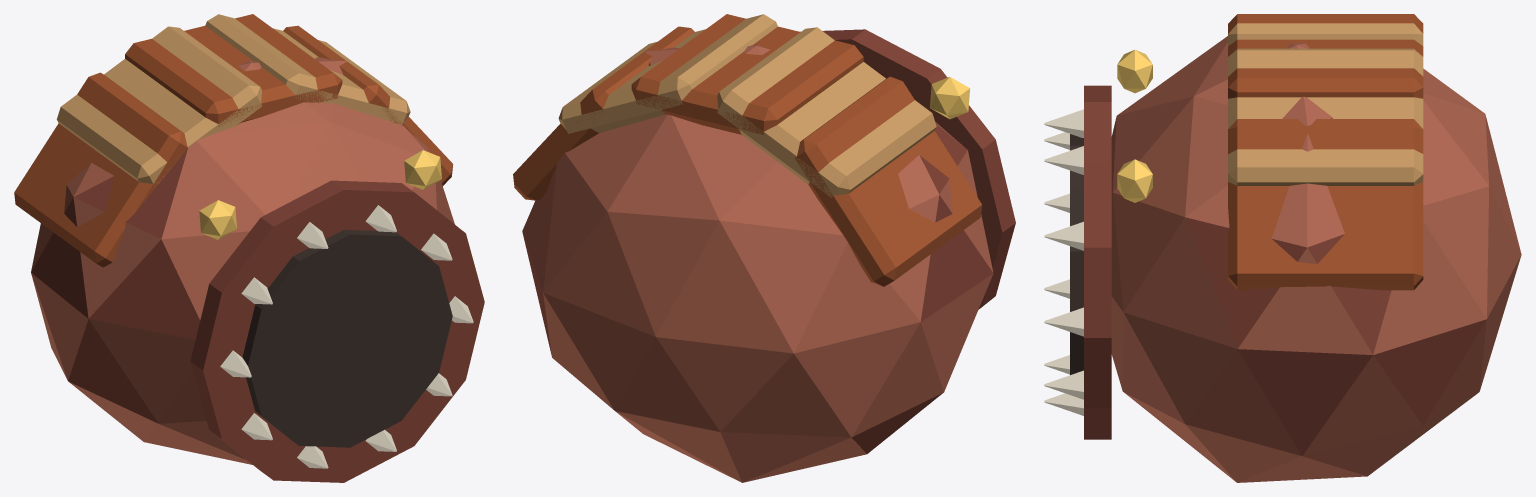
The model's file is WormHead.fbx.
3 renders of one model, left to right at view 1: azimuth 30°, elevation 25°; view 2: azimuth 150°, elevation 25°; view 3: azimuth 270°, elevation 25°, orthographic. The views are drawn at different scales.
Visible parts, largest first — view 1: WormHead; view 2: WormHead; view 3: WormHead.
Part boxes in pixels (x1,y1,x2,y2): WormHead: (14, 14, 484, 482); WormHead: (513, 14, 1015, 482); WormHead: (1044, 14, 1521, 482).
Size of the model in its own units: 10 by 10 by 10.
